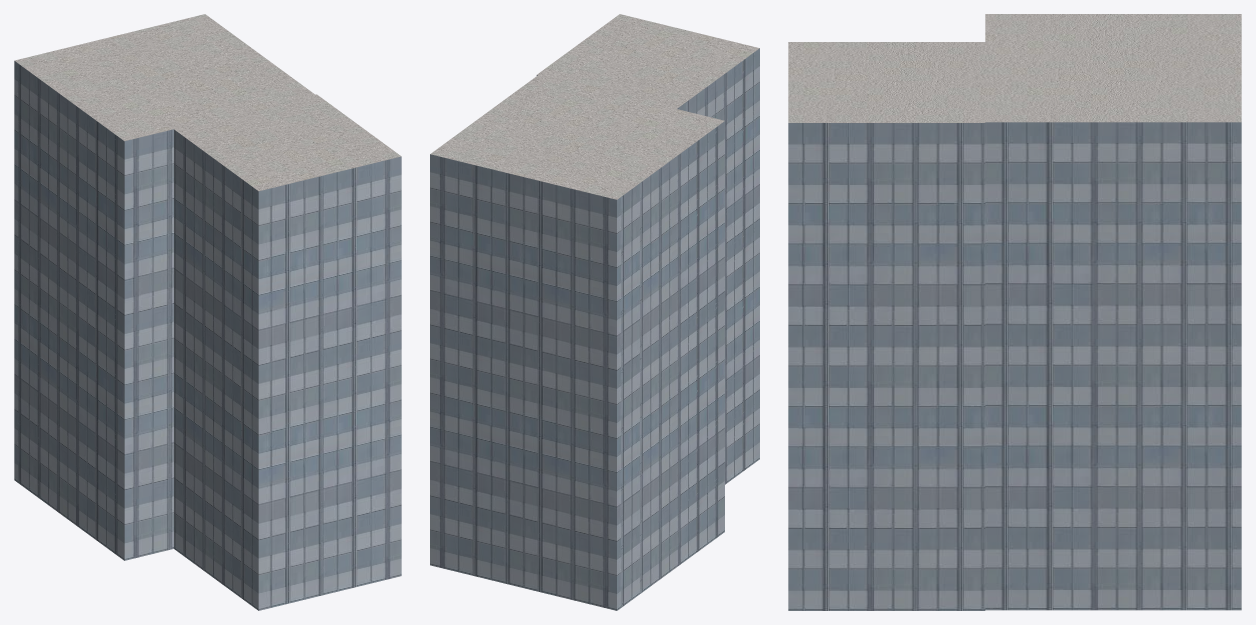
Rendered from building_013.fbx.
3 views of the same model, side by side, from view 1: azimuth 30°, elevation 25°; view 2: azimuth 150°, elevation 25°; view 3: azimuth 270°, elevation 25° (orthographic). The views are drawn at different scales.
Parts seen in each view (by area): view 1: building_013; view 2: building_013; view 3: building_013.
Boxes of the visible parts, bbox=[...] form: building_013: bbox=[14, 14, 401, 610]; building_013: bbox=[430, 14, 759, 610]; building_013: bbox=[788, 14, 1241, 610].
Bounding box in the file's own units: 1007 × 2100 × 1770.
